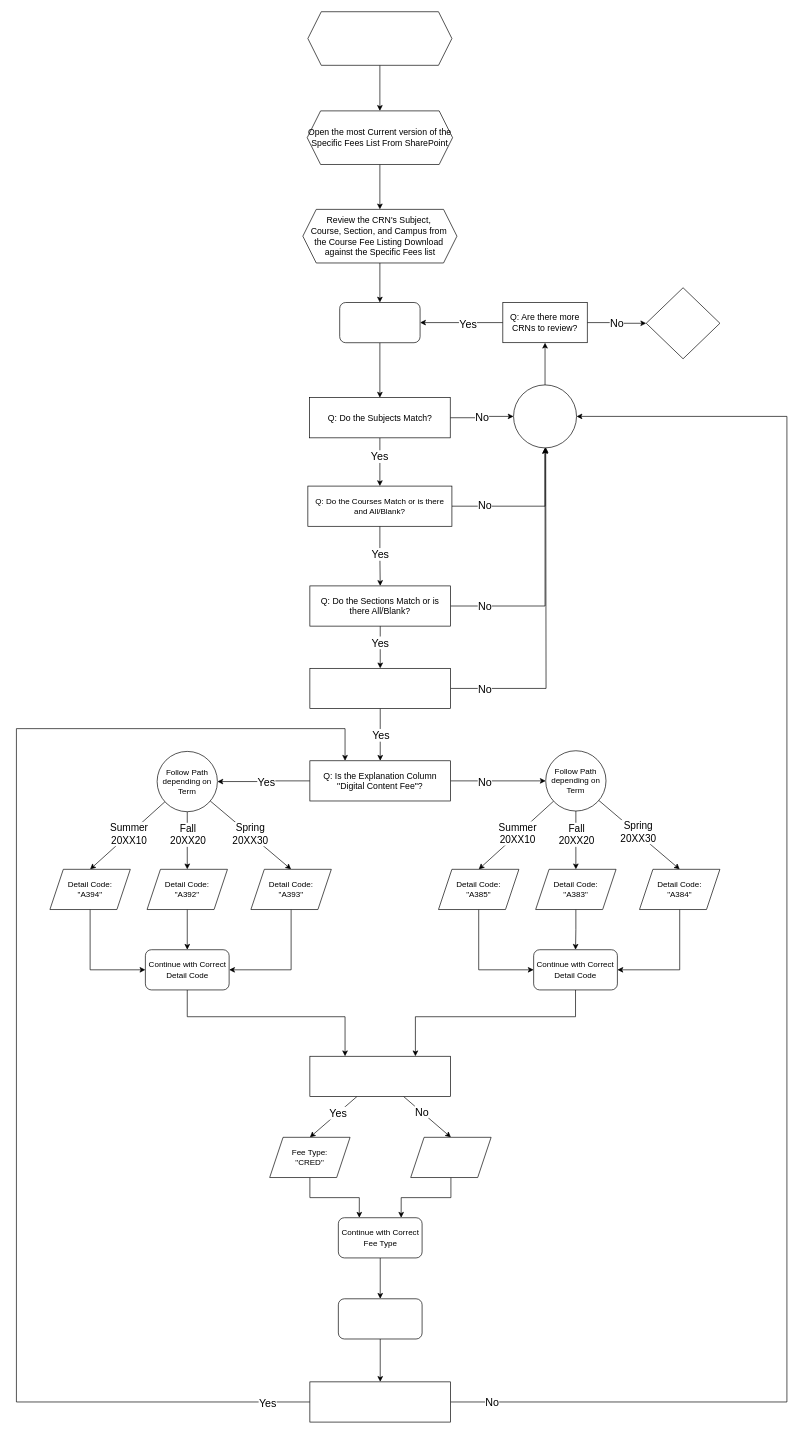
Some shapes in this 804 by 1434 pixel diagram are drawn without their labels. Here are the shapes that lost their labels. From the top down, the centre of each, then its label:
[379,38]: Start: Download the Course Fee Listing Report from Banner
[379,322]: Review new CRN row data
[683,323]: Task Completed
[545,416]: Nothing else to Process for CRN
[380,688]: Q: Do the Campuses Match or is there All/Blank?
[380,1076]: Q: Is the Frequency Column "Per Credit Hour"?
[450,1157]: Fee Type: "FLAT"
[380,1318]: Input the Associated Fee
[380,1401]: Q: Are there more fees that are align with the CRN in process?
